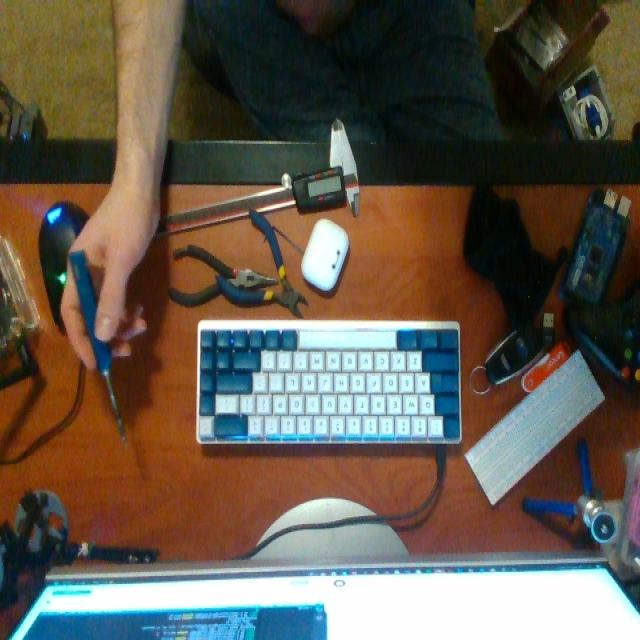keyboard: (198, 324, 461, 440)
